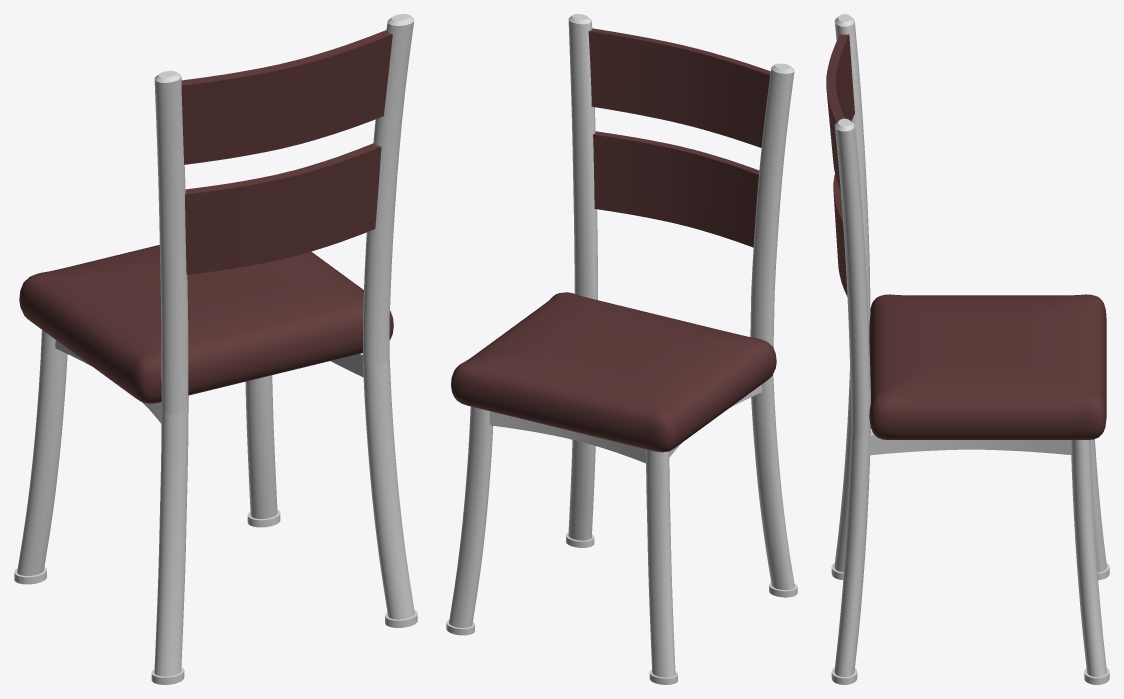
File: Chaise3_5.fbx
3 renders of one model, left to right at view 1: azimuth 30°, elevation 25°; view 2: azimuth 150°, elevation 25°; view 3: azimuth 270°, elevation 25°, orthographic. The views are drawn at different scales.
Parts seen in each view (by area): view 1: pCube2672, pCube2679, pCube2680, pCylinder1672, pCylinder1671, pCylinder1667, pCylinder1668, pCylinder1670, pCylinder1669; view 2: pCube2672, pCube2679, pCube2680, pCylinder1672, pCylinder1671, pCylinder1670, pCylinder1669, pCylinder1667, pCylinder1668, pCube2674; view 3: pCube2672, pCylinder1671, pCylinder1668, pCylinder1669, pCube2675, pCube2679, pCylinder1672, pCylinder1667, pCylinder1670, pCube2680.
Part boxes in pixels (left/top/right/bottom): pCube2672: left=19, top=245, right=393, bottom=403; pCube2679: left=181, top=30, right=392, bottom=164; pCube2680: left=185, top=143, right=381, bottom=274; pCylinder1672: left=154, top=71, right=188, bottom=413; pCylinder1671: left=363, top=14, right=414, bottom=364; pCylinder1667: left=151, top=408, right=188, bottom=684; pCylinder1668: left=363, top=360, right=417, bottom=627; pCylinder1670: left=14, top=330, right=67, bottom=584; pCylinder1669: left=245, top=375, right=280, bottom=527; pCube2672: left=451, top=292, right=776, bottom=452; pCube2679: left=588, top=28, right=770, bottom=147; pCube2680: left=593, top=131, right=759, bottom=247; pCylinder1672: left=750, top=63, right=794, bottom=347; pCylinder1671: left=568, top=14, right=597, bottom=299; pCylinder1670: left=646, top=449, right=677, bottom=684; pCylinder1669: left=446, top=406, right=493, bottom=635; pCylinder1667: left=751, top=374, right=797, bottom=597; pCylinder1668: left=566, top=439, right=595, bottom=547; pCube2674: left=489, top=411, right=645, bottom=463; pCube2672: left=869, top=294, right=1106, bottom=439; pCylinder1671: left=834, top=118, right=870, bottom=438; pCylinder1668: left=831, top=434, right=870, bottom=684; pCylinder1669: left=1071, top=440, right=1109, bottom=684; pCube2675: left=869, top=431, right=1071, bottom=455; pCube2679: left=826, top=34, right=854, bottom=191; pCylinder1672: left=834, top=14, right=870, bottom=335; pCylinder1667: left=831, top=369, right=850, bottom=579; pCylinder1670: left=1090, top=439, right=1109, bottom=579; pCube2680: left=833, top=174, right=847, bottom=296.
Size of the model in its own units: 39.07 by 85.74 by 39.63.
